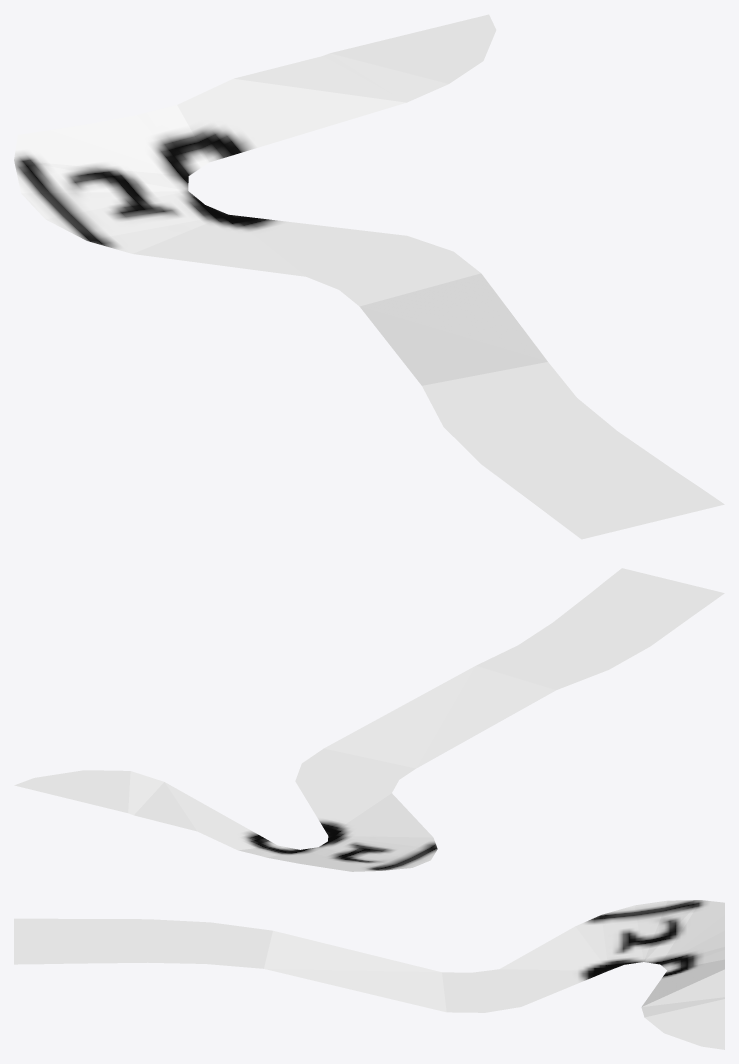
Rendered from pollution03.dae.
The picture shows the model from 3 angles, top to bottom: view 1: azimuth 30°, elevation 25°; view 2: azimuth 150°, elevation 25°; view 3: azimuth 270°, elevation 25°; orthographic projection. The views are drawn at different scales.
Parts seen in each view (by area): view 1: m0; view 2: m0; view 3: m0.
Boxes of the visible parts, <box> form: m0: <box>14,14,724,539</box>; m0: <box>14,568,724,871</box>; m0: <box>14,900,724,1049</box>.
Bounding box in the file's own units: 2144 × 200 × 3925.
